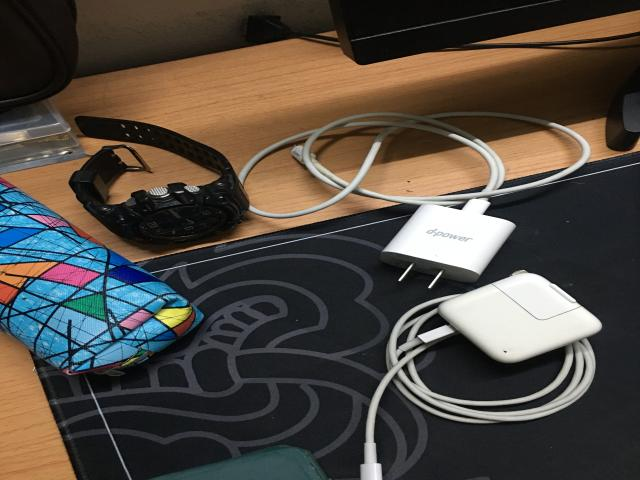Watch: (68, 116, 248, 245)
wire: (241, 113, 597, 285), (361, 269, 605, 480)
